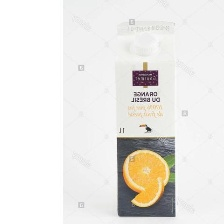carton: (113, 18, 180, 219)
